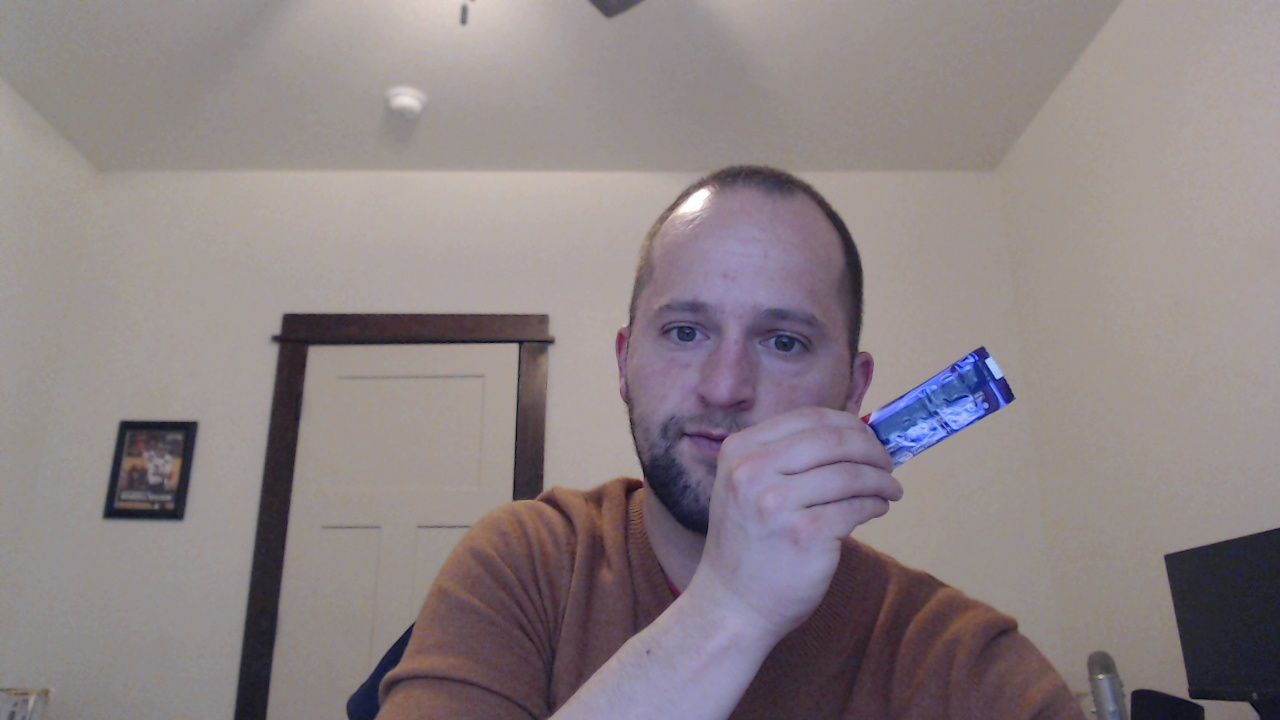milky_way: (839, 314, 1034, 474)
